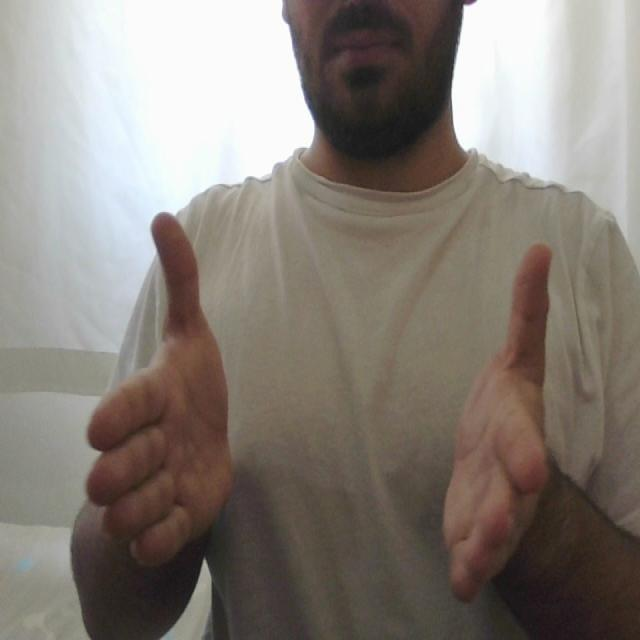Nasil: (80, 192, 565, 601)
